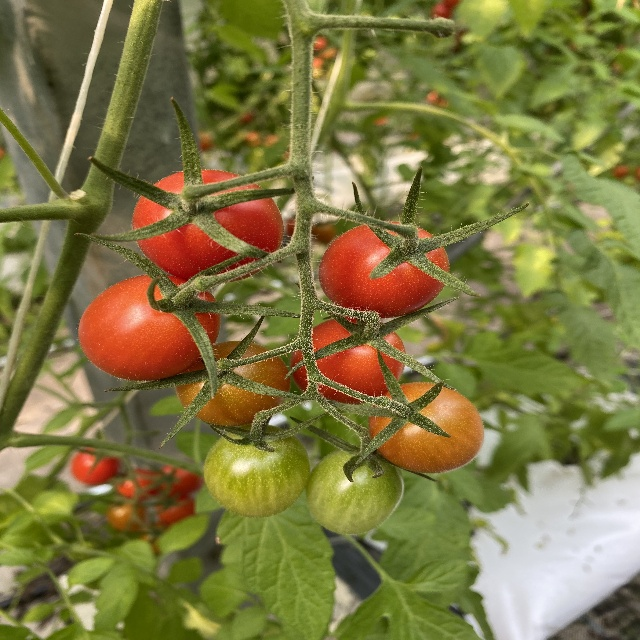l_fully_ripened: (133, 168, 286, 284), (80, 275, 221, 382), (318, 219, 451, 319), (290, 315, 406, 404)
l_green: (203, 423, 310, 520), (305, 446, 403, 535)
l_half_ripened: (369, 381, 485, 474), (172, 341, 293, 428)
